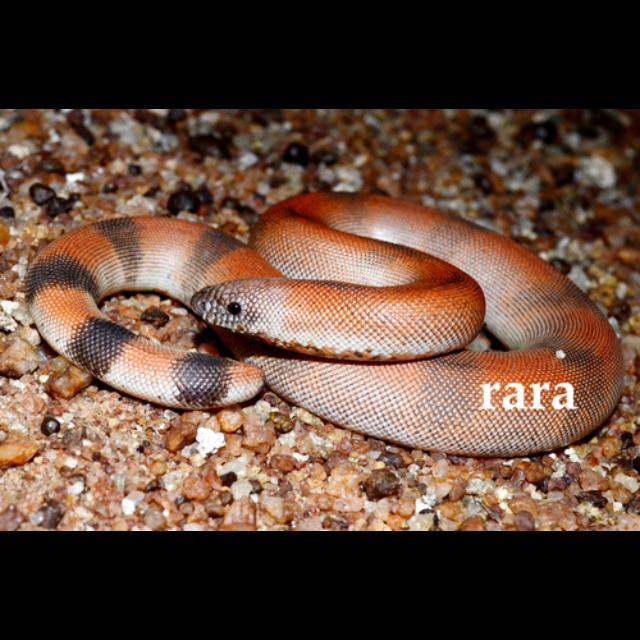snake: (31, 183, 626, 462)
